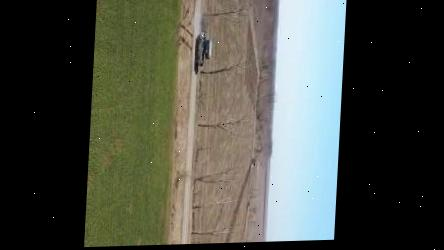rszo: (194, 32, 214, 66)
